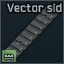KRISS Vector side rail: (0, 0, 64, 64)
